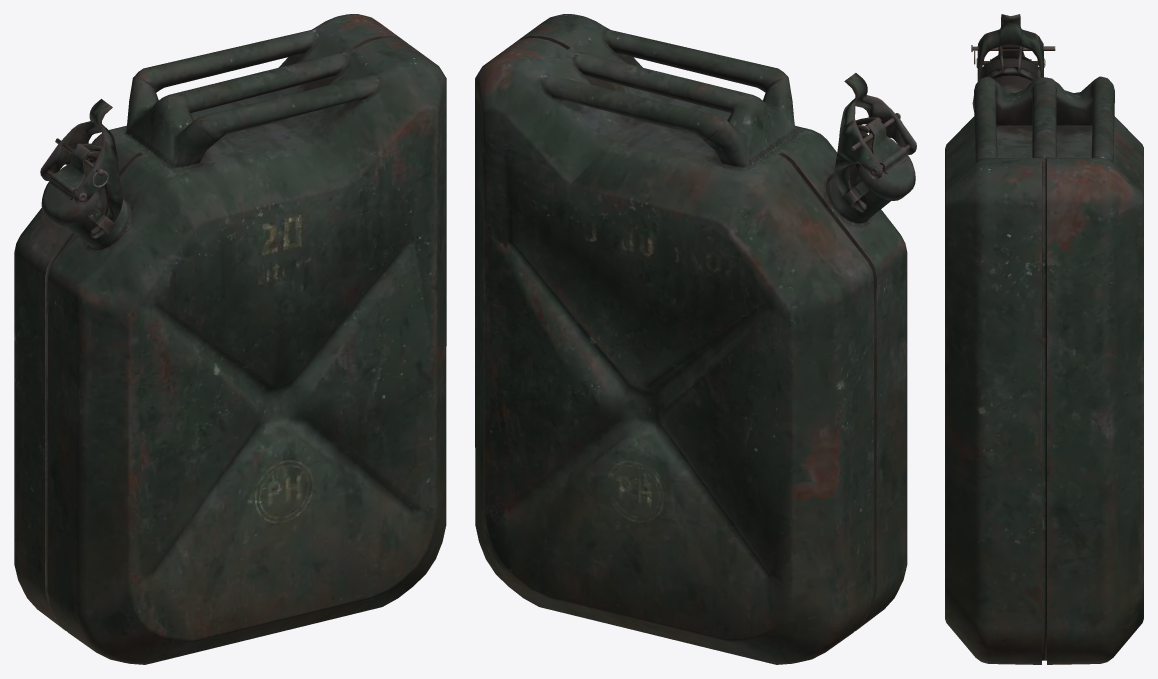
The model's file is metal_jerrycan_green.glb.
3 renders of one model, left to right at view 1: azimuth 30°, elevation 25°; view 2: azimuth 150°, elevation 25°; view 3: azimuth 270°, elevation 25°, orthographic. The views are drawn at different scales.
Parts seen in each view (by area): view 1: metal_jerrycan_green_pin; view 2: metal_jerrycan_green_pin; view 3: metal_jerrycan_green_pin.
Boxes of the visible parts, bbox=[...] form: metal_jerrycan_green_pin: bbox=[14, 14, 446, 664]; metal_jerrycan_green_pin: bbox=[475, 14, 916, 664]; metal_jerrycan_green_pin: bbox=[945, 14, 1143, 664].
Size of the model in its own units: 0.3604 by 0.4998 by 0.1709.
Materials: 1 (1 with a texture image).
